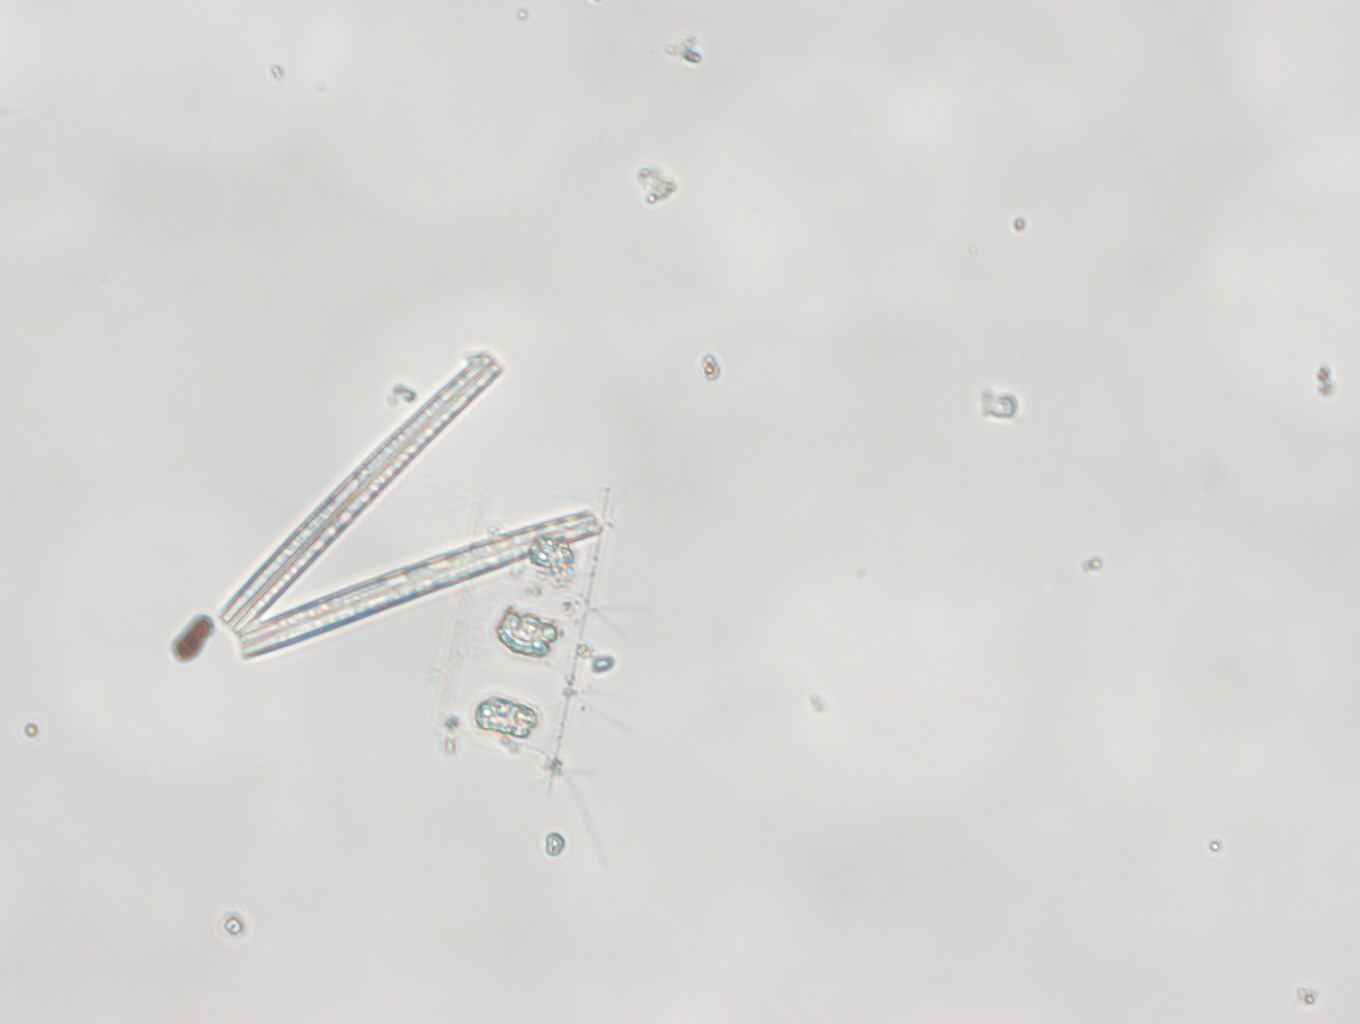chaetoceros: (428, 477, 660, 841)
thalassionema frauenfeldii: (207, 346, 615, 660)
